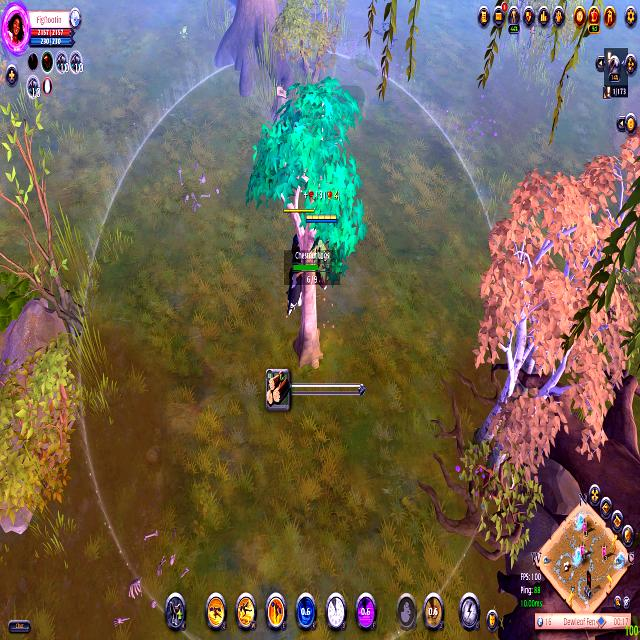red: (301, 200, 341, 297)
wisp caged: (466, 119, 640, 530), (243, 64, 373, 389)
